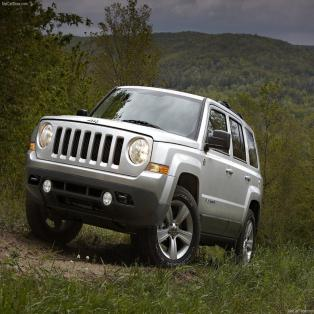Auto: (22, 84, 265, 270)
